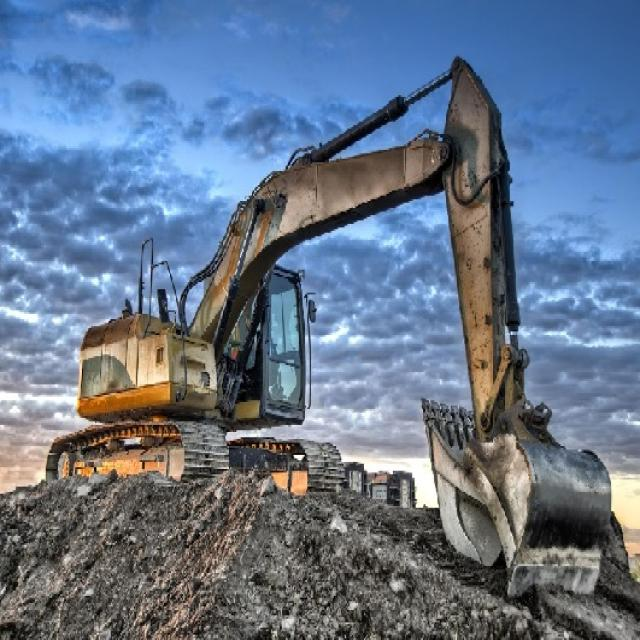excavator: (44, 52, 614, 607)
